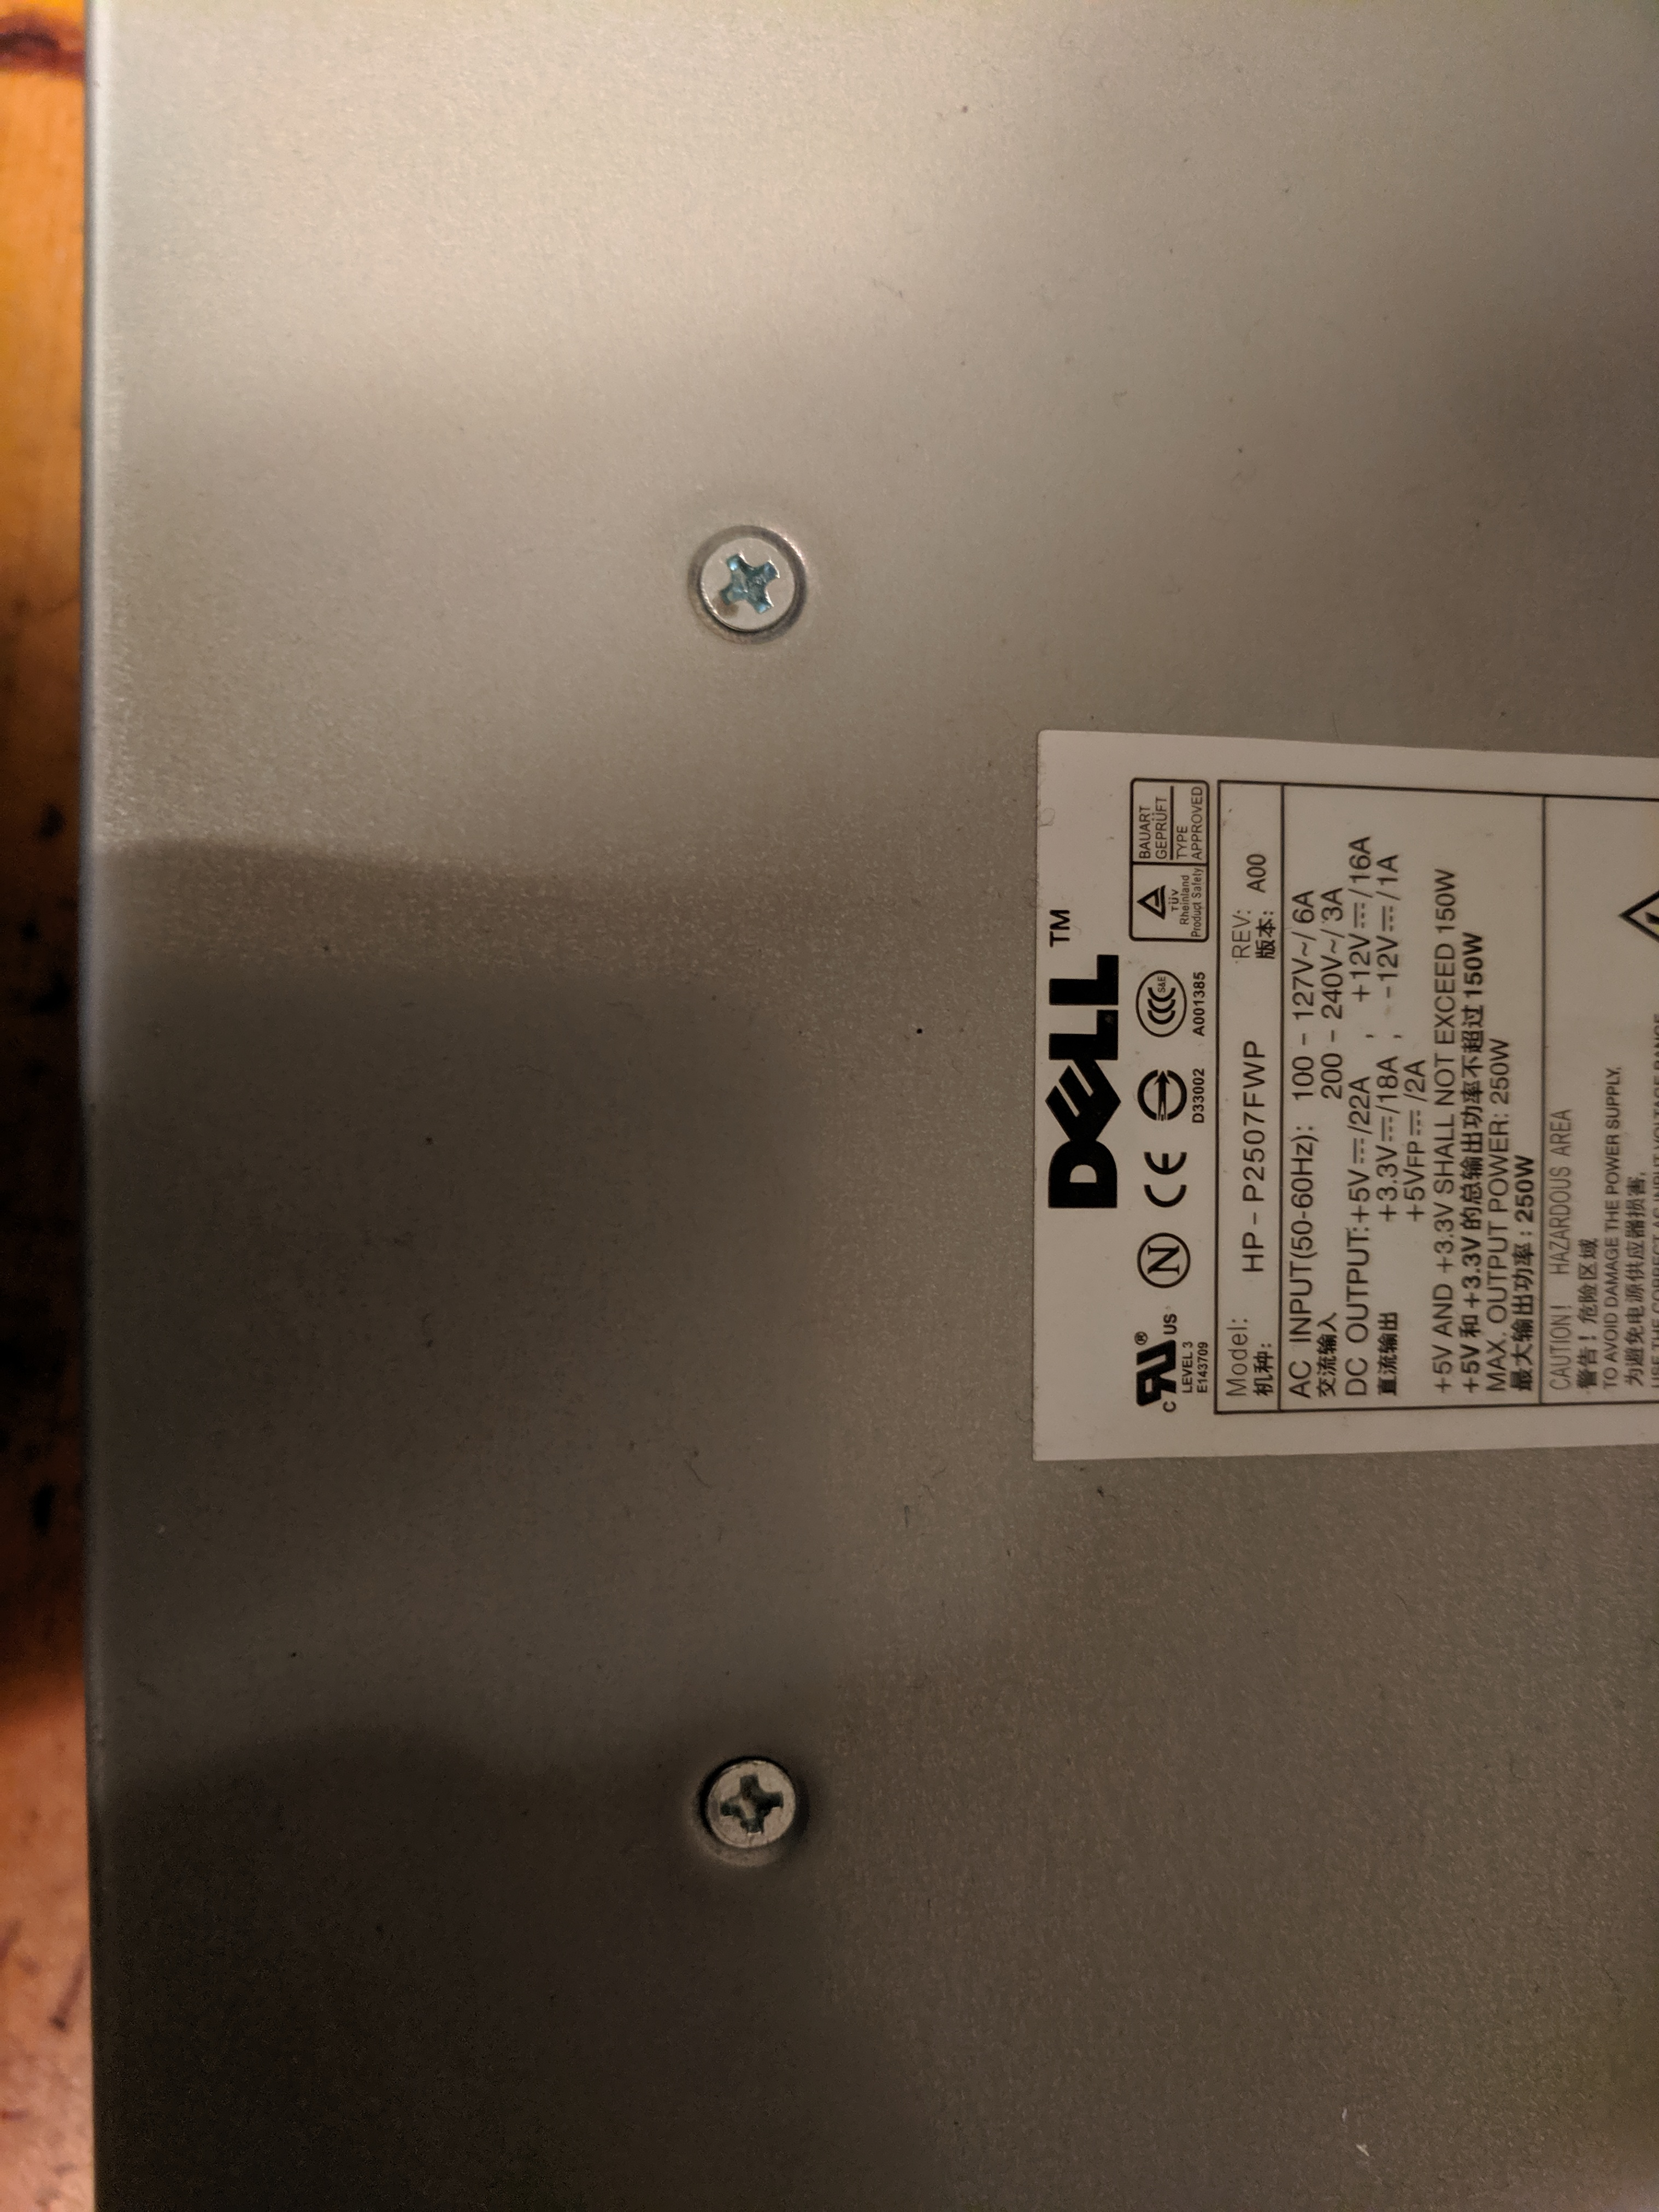cross_recessed_screw: (697, 524, 809, 639), (708, 1756, 802, 1857)
